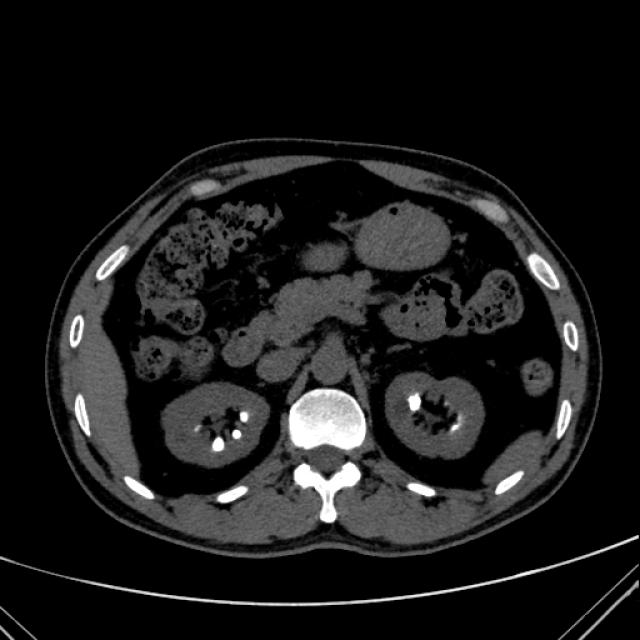kidneystone: (408, 392, 421, 412), (211, 438, 225, 452), (231, 429, 242, 439), (240, 411, 249, 422)
